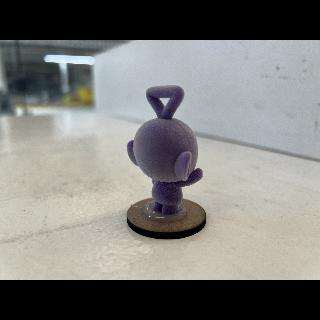teletubby: (127, 85, 203, 216)
